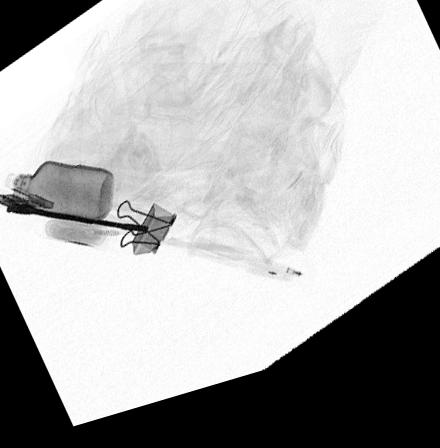Wrench: (3, 198, 150, 241)
